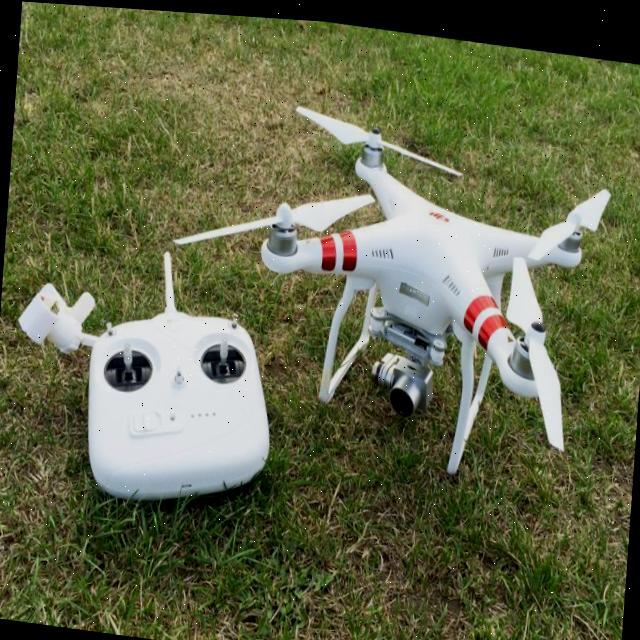drone: (241, 90, 607, 485)
